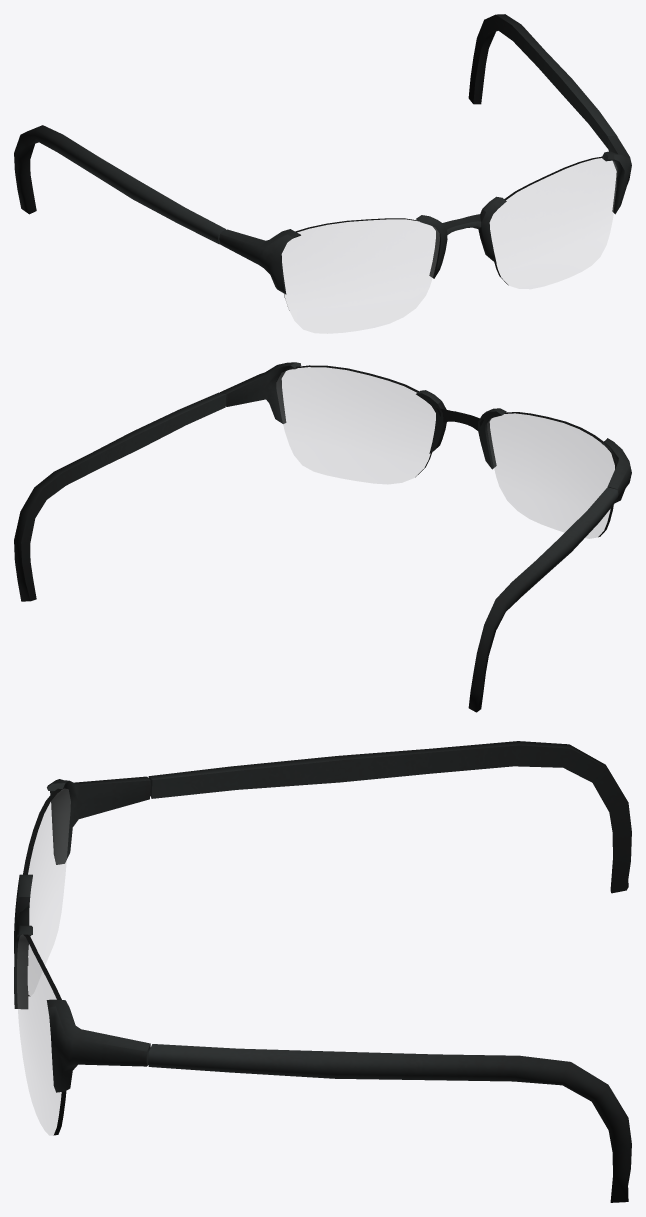
3 renders of one model, top to bottom at view 1: azimuth 30°, elevation 25°; view 2: azimuth 150°, elevation 25°; view 3: azimuth 270°, elevation 25°, orthographic. The views are drawn at different scales.
Parts seen in each view (by area): view 1: Wolf3D_Glasses; view 2: Wolf3D_Glasses; view 3: Wolf3D_Glasses.
Boxes of the visible parts, bbox=[...] form: Wolf3D_Glasses: bbox=[14, 14, 631, 333]; Wolf3D_Glasses: bbox=[14, 362, 631, 712]; Wolf3D_Glasses: bbox=[14, 741, 631, 1202].
Size of the model in its own units: 0.1643 by 0.037 by 0.1311.
Materials: 1 (1 with a texture image).
